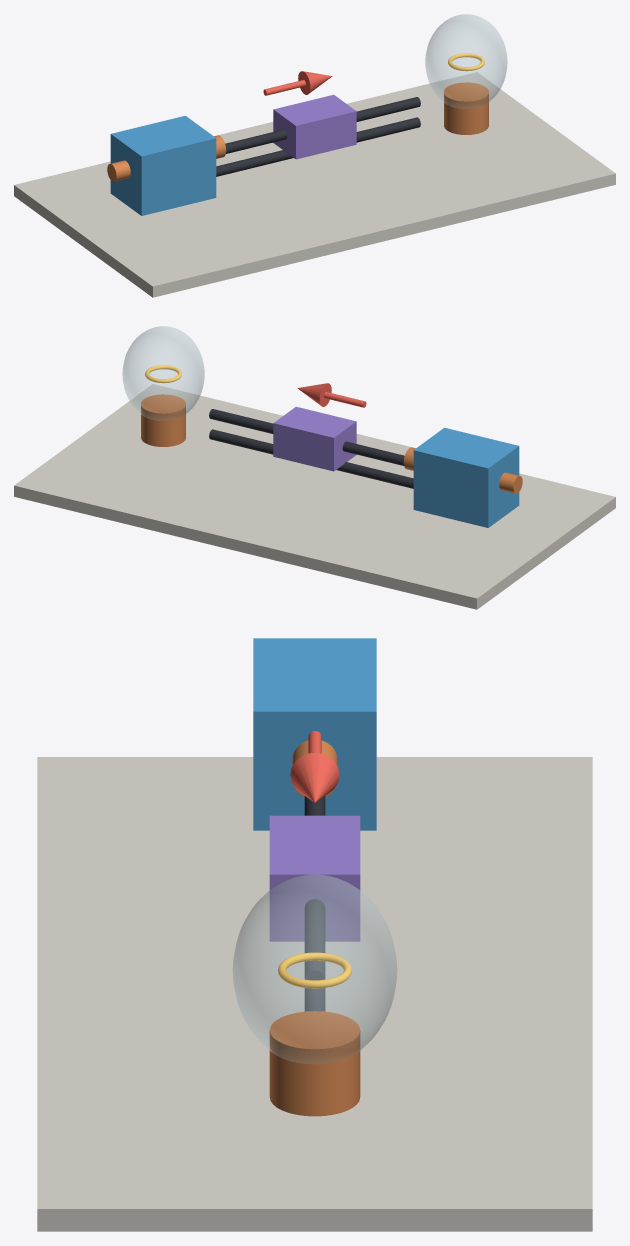
Rendered from physics-electricity-resistance.glb.
3 renders of one model, top to bottom at view 1: azimuth 30°, elevation 25°; view 2: azimuth 150°, elevation 25°; view 3: azimuth 270°, elevation 25°, orthographic. The views are drawn at different scales.
Parts seen in each view (by area): view 1: circuit-base, battery-case, glass-bulb, resistor-block, bulb-base, wire-bottom, wire-top, slower-current-arrow-head, negative-terminal; view 2: circuit-base, battery-case, glass-bulb, resistor-block, bulb-base, wire-bottom, wire-top, slower-current-arrow-head, negative-terminal; view 3: circuit-base, glass-bulb, battery-case, resistor-block, bulb-base, wire-top, slower-current-arrow-head, glowing-filament.
Boxes of the visible parts, x1,y1,x2,y2 form: circuit-base: [14, 72, 615, 297]; battery-case: [110, 115, 216, 215]; glass-bulb: [425, 14, 507, 108]; resistor-block: [273, 94, 356, 159]; bulb-base: [444, 82, 488, 134]; wire-bottom: [216, 117, 420, 176]; wire-top: [225, 97, 420, 153]; slower-current-arrow-head: [298, 71, 332, 94]; negative-terminal: [107, 160, 130, 181]; circuit-base: [14, 384, 615, 609]; battery-case: [413, 427, 519, 527]; glass-bulb: [122, 326, 204, 420]; resistor-block: [273, 406, 356, 471]; bulb-base: [141, 394, 185, 446]; wire-bottom: [209, 429, 413, 488]; wire-top: [209, 409, 404, 465]; slower-current-arrow-head: [297, 383, 331, 406]; negative-terminal: [499, 472, 522, 493]; circuit-base: [37, 757, 592, 1231]; glass-bulb: [232, 874, 397, 1063]; battery-case: [253, 638, 376, 830]; resistor-block: [269, 815, 360, 941]; bulb-base: [269, 1011, 360, 1116]; wire-top: [304, 796, 325, 980]; slower-current-arrow-head: [290, 753, 339, 802]; glowing-filament: [278, 952, 351, 988].
Size of what is drawn, in the model's own units: 2.6 by 0.73 by 1.35.
